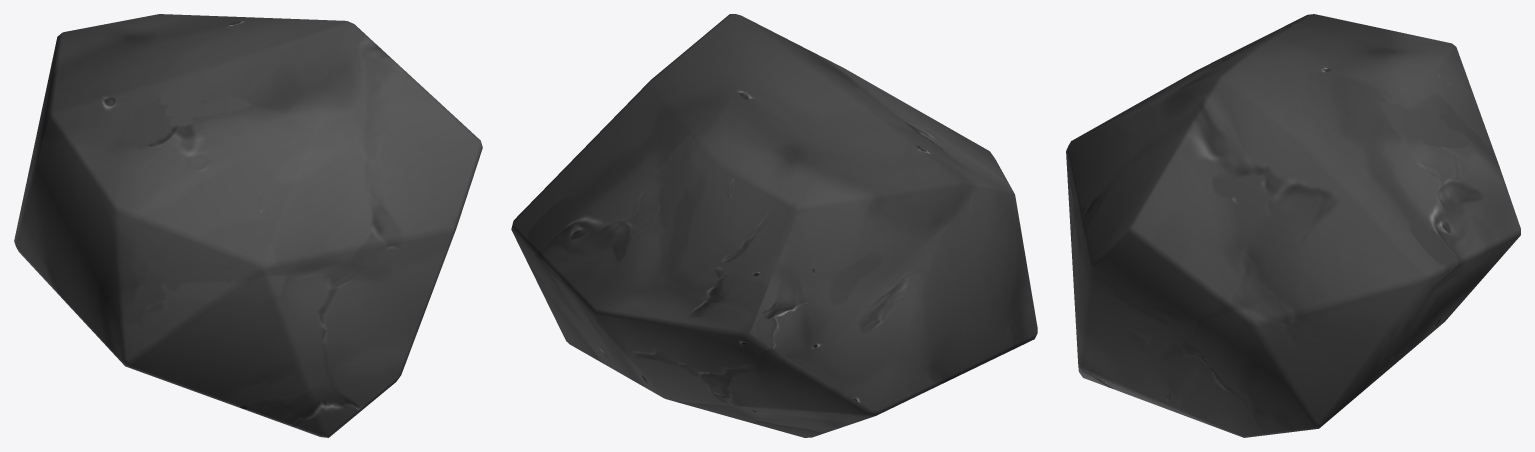
File: SM_ENV_stone_battle_02.fbx
3 renders of one model, left to right at view 1: azimuth 30°, elevation 25°; view 2: azimuth 150°, elevation 25°; view 3: azimuth 270°, elevation 25°, orthographic. The views are drawn at different scales.
Visible parts, largest first — view 1: SM_ENV_stone_battle_02_LOD0; view 2: SM_ENV_stone_battle_02_LOD0; view 3: SM_ENV_stone_battle_02_LOD0.
Part boxes in pixels (bbox=[...]): SM_ENV_stone_battle_02_LOD0: bbox=[14, 14, 482, 437]; SM_ENV_stone_battle_02_LOD0: bbox=[511, 14, 1037, 437]; SM_ENV_stone_battle_02_LOD0: bbox=[1066, 14, 1520, 437].
Size of what is drawn, in the model's own units: 180 by 157 by 187.
